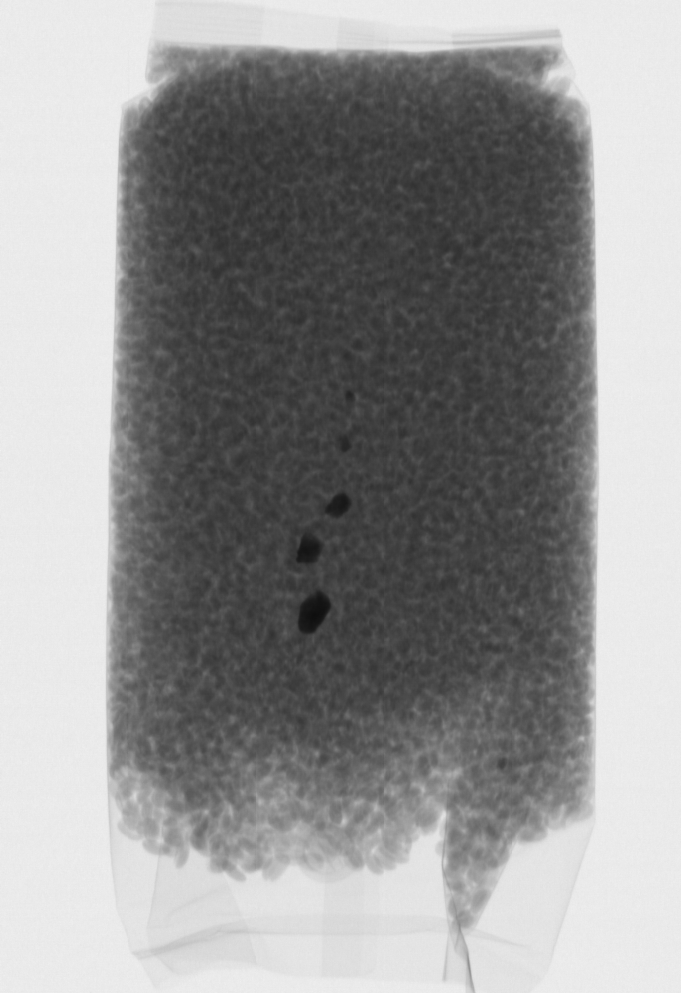stone: (296, 590, 335, 640), (294, 529, 326, 574), (320, 483, 355, 521), (345, 384, 364, 405), (333, 434, 354, 451)
stone_area: (271, 352, 381, 655)
